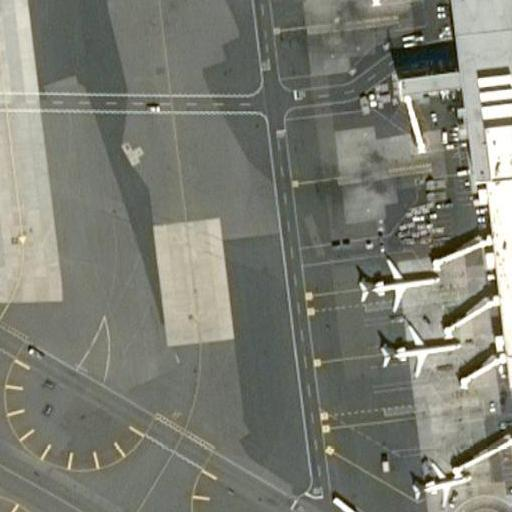Aircraft: (351, 253, 438, 312), (380, 321, 458, 377), (405, 452, 476, 504)
